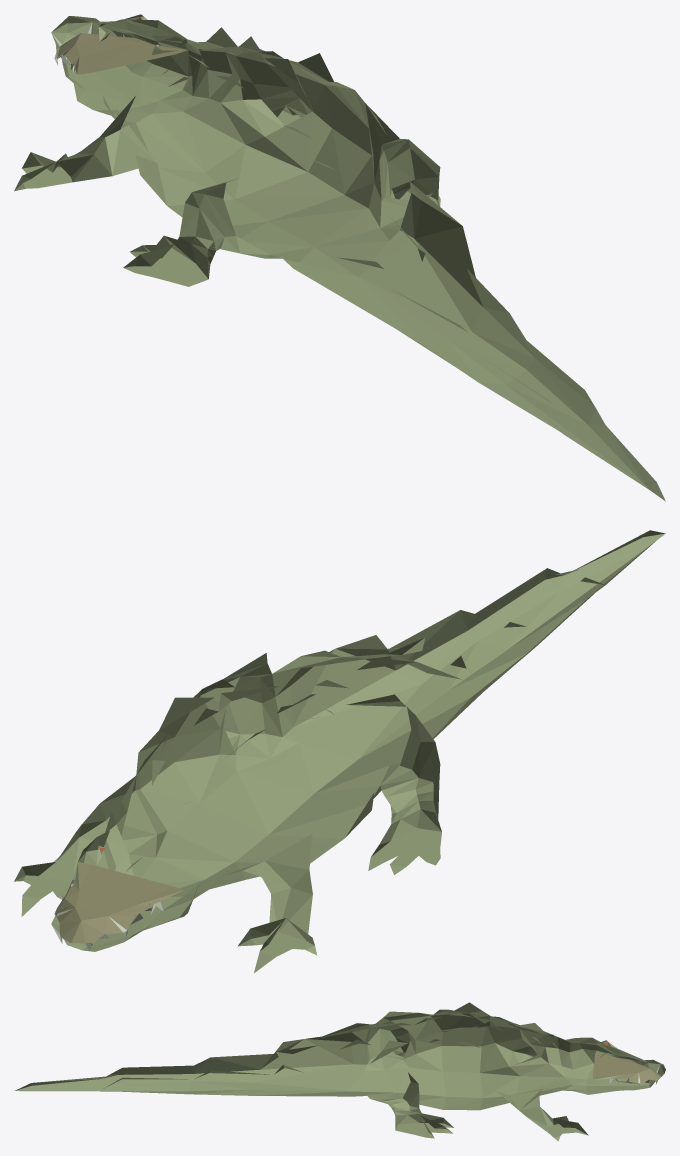
The model's file is dinosaur.gltf.
3 renders of one model, top to bottom at view 1: azimuth 30°, elevation 25°; view 2: azimuth 150°, elevation 25°; view 3: azimuth 270°, elevation 25°, orthographic. The views are drawn at different scales.
Parts seen in each view (by area): view 1: gator_colorMap; view 2: gator_colorMap; view 3: gator_colorMap.
Boxes of the visible parts, x1,y1,x2,y2 form: gator_colorMap: [14, 14, 665, 501]; gator_colorMap: [14, 530, 665, 972]; gator_colorMap: [15, 1002, 665, 1141].
Size of the model in its own units: 145 by 73.1 by 481.
